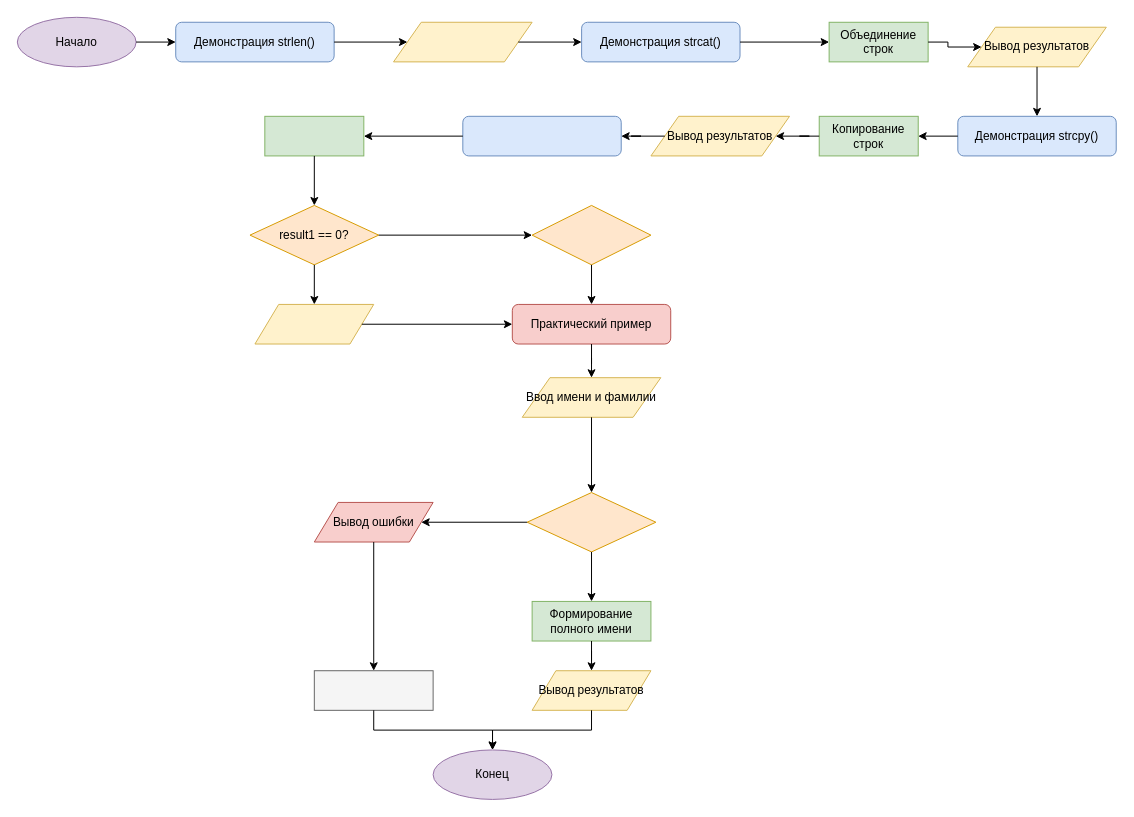
Image size: 1134x817. Some labels were removed from this diagram. Each missing label, with the centre of its shape:
return 1: the point at 373,690
Вывод строк и их длин: the point at 462,41
Вывод: 'строки идентичны': the point at 314,323
Демонстрация strcmp(): the point at 541,135
Проверка result1 < 0: the point at 591,234
Проверка на пустые строки: the point at 591,522
Сравнение строк: the point at 314,135
